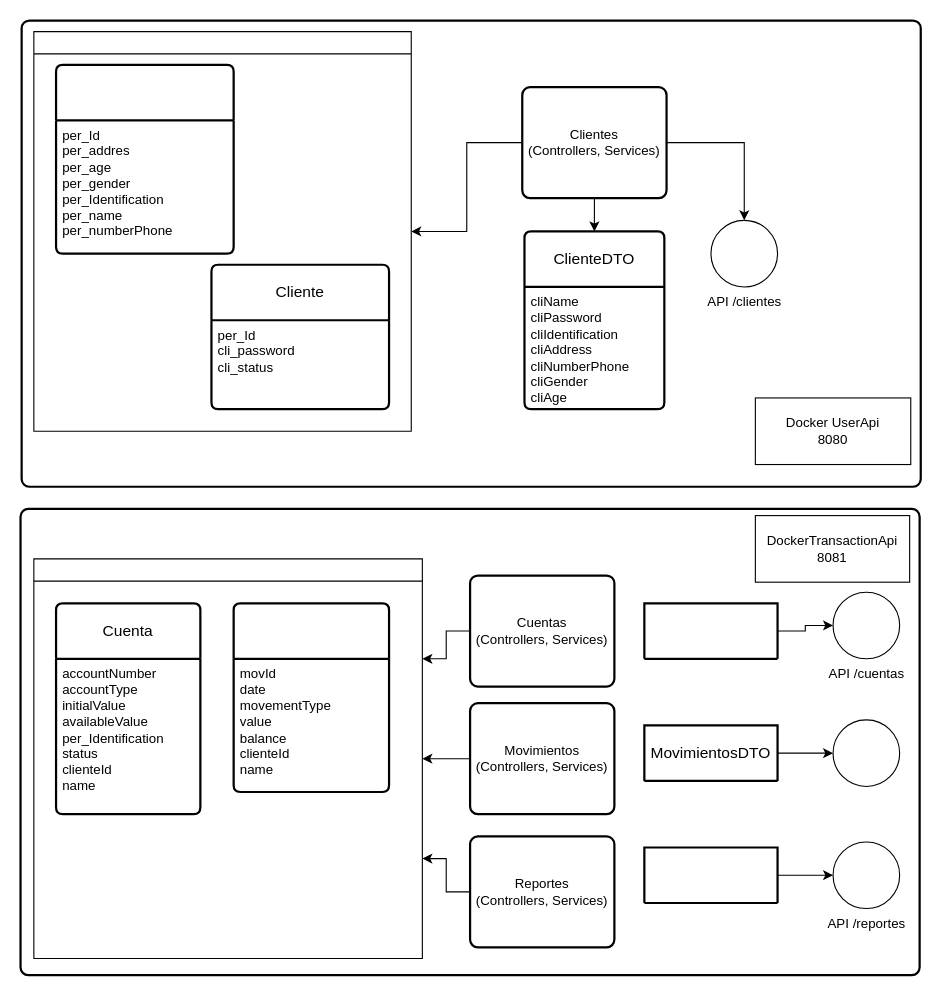
The diagram is 940 pixels wide and 995 high, and some of its shapes have lost their labels. The shapes that lost their labels are listed below. From the top down, each one's box as (x1, y1, x2, y2) in pixels, then its label:
(54, 63, 234, 254): Persona
(33, 31, 411, 431): usersbdd
(643, 602, 778, 659): CuentasDTO
(232, 602, 390, 793): Movimientos
(33, 558, 422, 958): transactionsbdd
(832, 719, 900, 786): API /movimientos
(643, 846, 778, 904): ReportesDTO
